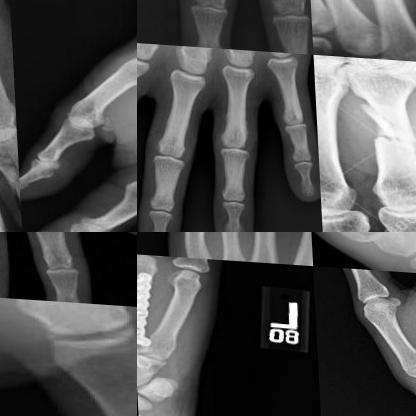fracture: (363, 114, 415, 154), (331, 232, 404, 243)
